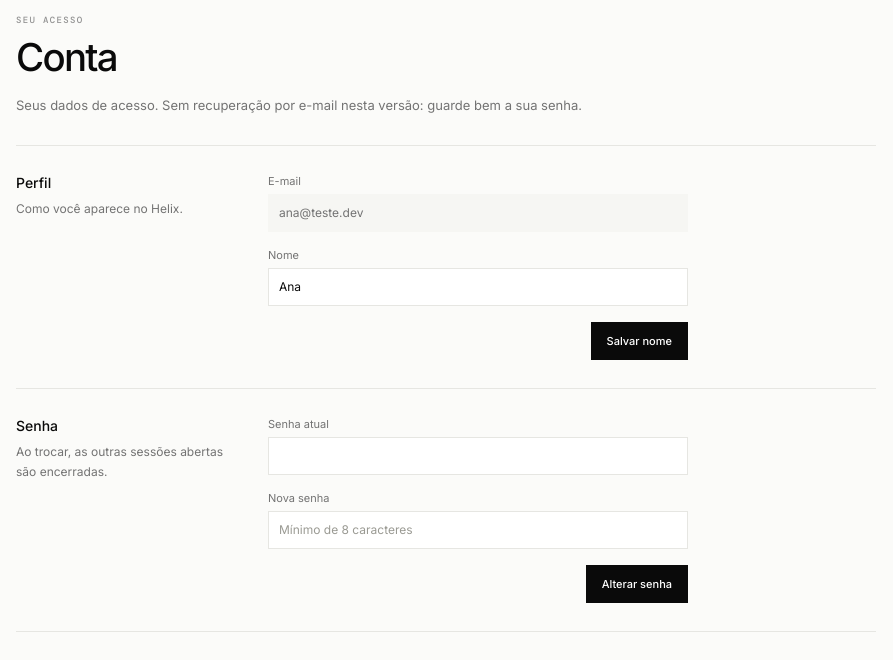
it: AccountView › troca a senha encerrando as outras sessões e traduz senha atual errada
Type "errada-123" into the password field labelled "Senha atual".
click(478, 456); type("errada-123")  # box [268, 437, 688, 475]
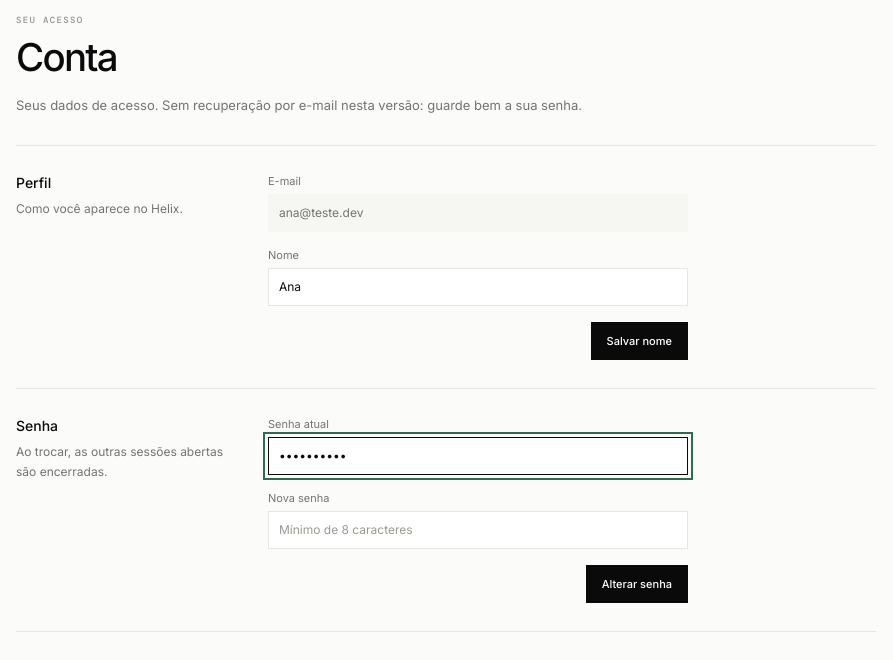
Type "nova-senha-1" into the password field labelled "Nova senha".
click(478, 530); type("nova-senha-1")  # box [268, 511, 688, 549]
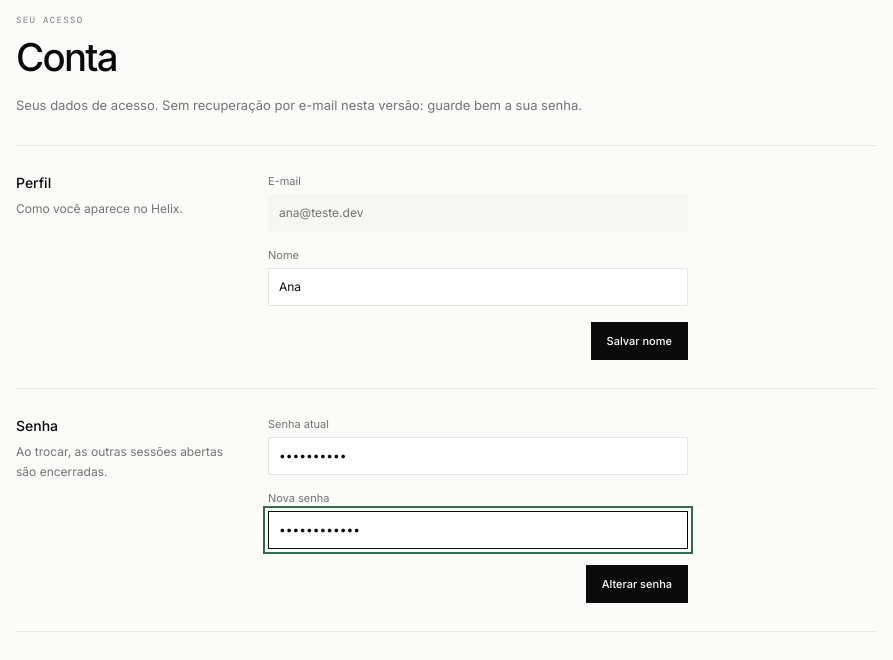
Click the button "Alterar senha".
click(637, 584)  # box [586, 565, 688, 603]
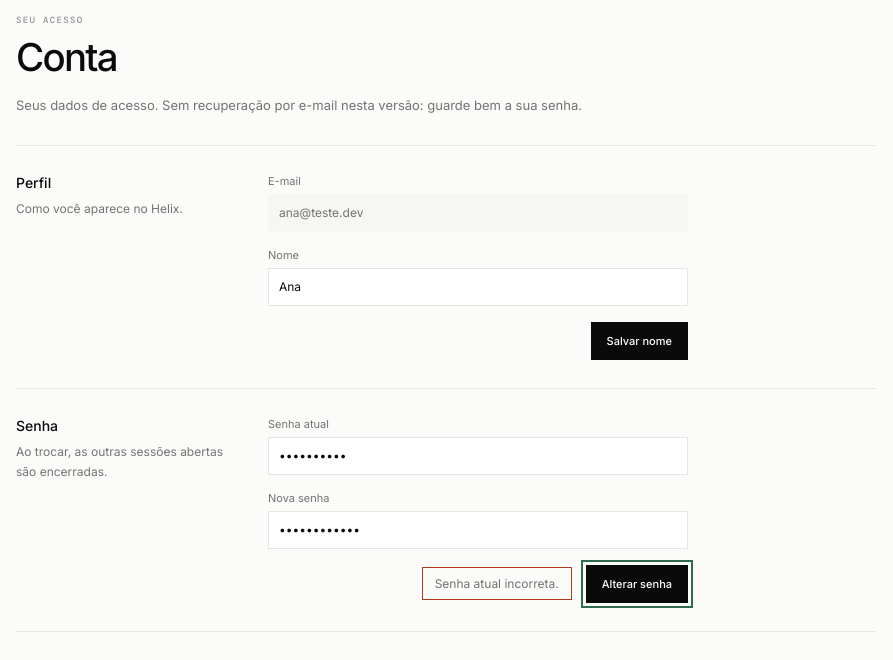
Expected: the message reads "Senha atual incorreta.", [435, 576, 559, 591]
